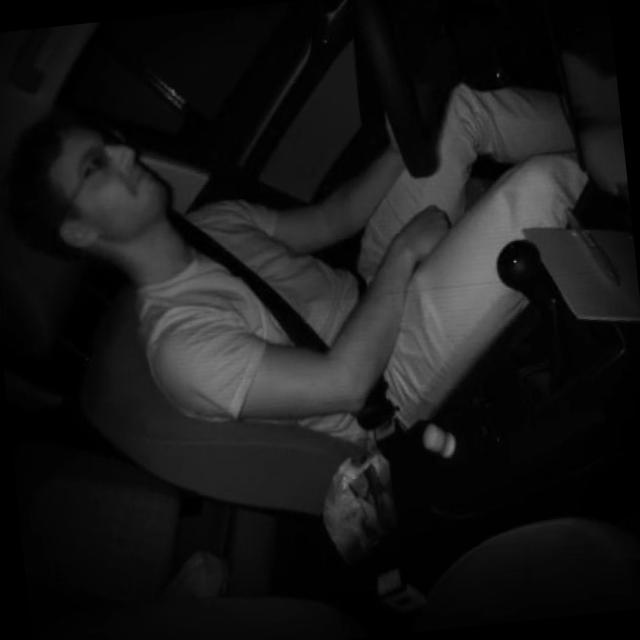pen: (560, 192, 624, 296)
